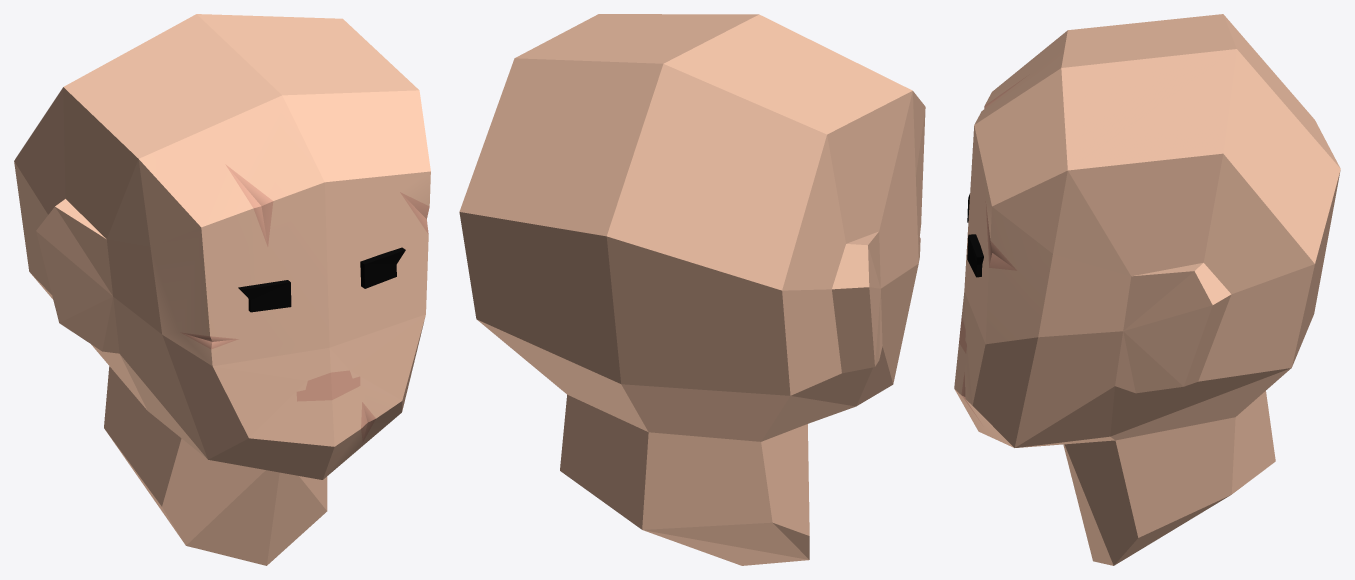
File: Chr_Head_Female_04_Static.fbx
3 views of the same model, side by side, from view 1: azimuth 30°, elevation 25°; view 2: azimuth 150°, elevation 25°; view 3: azimuth 270°, elevation 25° (orthographic). The views are drawn at different scales.
Parts seen in each view (by area): view 1: Chr_Head_Female_04_Static; view 2: Chr_Head_Female_04_Static; view 3: Chr_Head_Female_04_Static.
Part boxes in pixels (x1,y1,x2,y2): Chr_Head_Female_04_Static: (14, 14, 430, 565); Chr_Head_Female_04_Static: (459, 14, 925, 565); Chr_Head_Female_04_Static: (954, 14, 1340, 565).
Bounding box in the file's own units: 0.2661 × 0.3693 × 0.2526.
